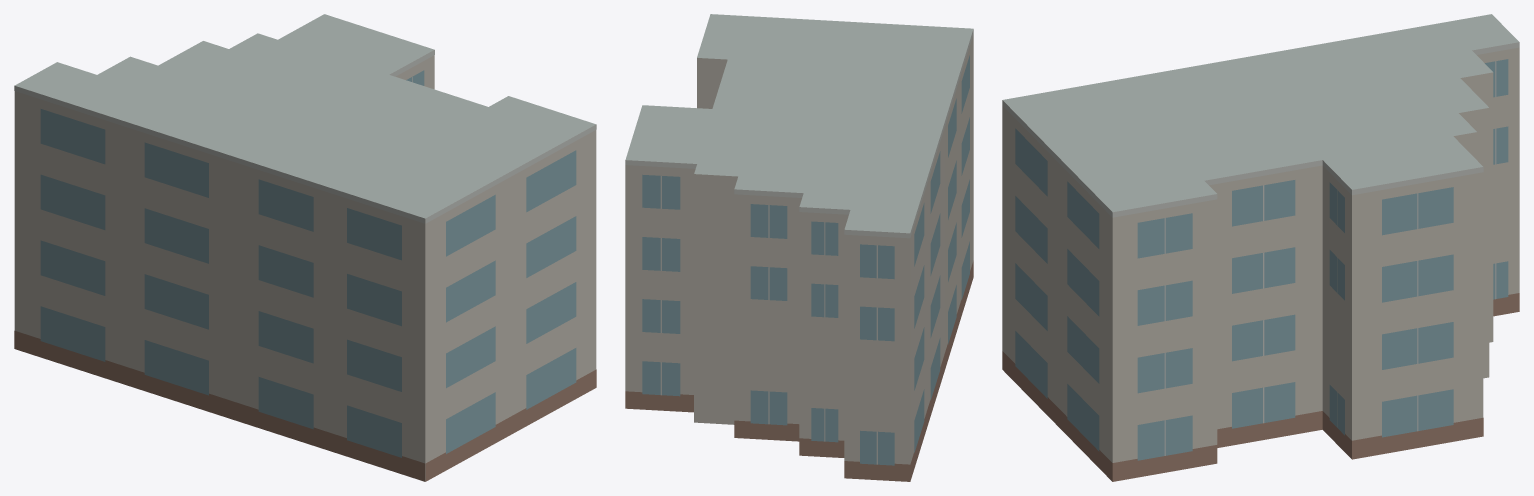
Rendered from residential-5e871f8a-322c-429b-adc4-6faf7ba7122f.glb.
3 renders of one model, left to right at view 1: azimuth 30°, elevation 25°; view 2: azimuth 150°, elevation 25°; view 3: azimuth 270°, elevation 25°, orthographic. The views are drawn at different scales.
Parts seen in each view (by area): view 1: residential-5e871f8a-322c-429b-adc4-6faf7ba7122f.tmp; view 2: residential-5e871f8a-322c-429b-adc4-6faf7ba7122f.tmp; view 3: residential-5e871f8a-322c-429b-adc4-6faf7ba7122f.tmp.
Part boxes in pixels (x1=…): residential-5e871f8a-322c-429b-adc4-6faf7ba7122f.tmp: x1=14, y1=14, x2=596, y2=481; residential-5e871f8a-322c-429b-adc4-6faf7ba7122f.tmp: x1=625, y1=14, x2=973, y2=481; residential-5e871f8a-322c-429b-adc4-6faf7ba7122f.tmp: x1=1002, y1=14, x2=1519, y2=481.
Bounding box in the file's own units: 19.25 × 12.2 × 21.22.
